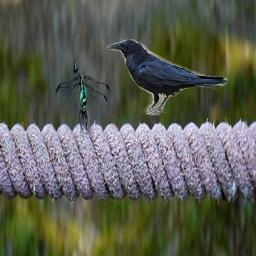Crow: (106, 39, 228, 116)
